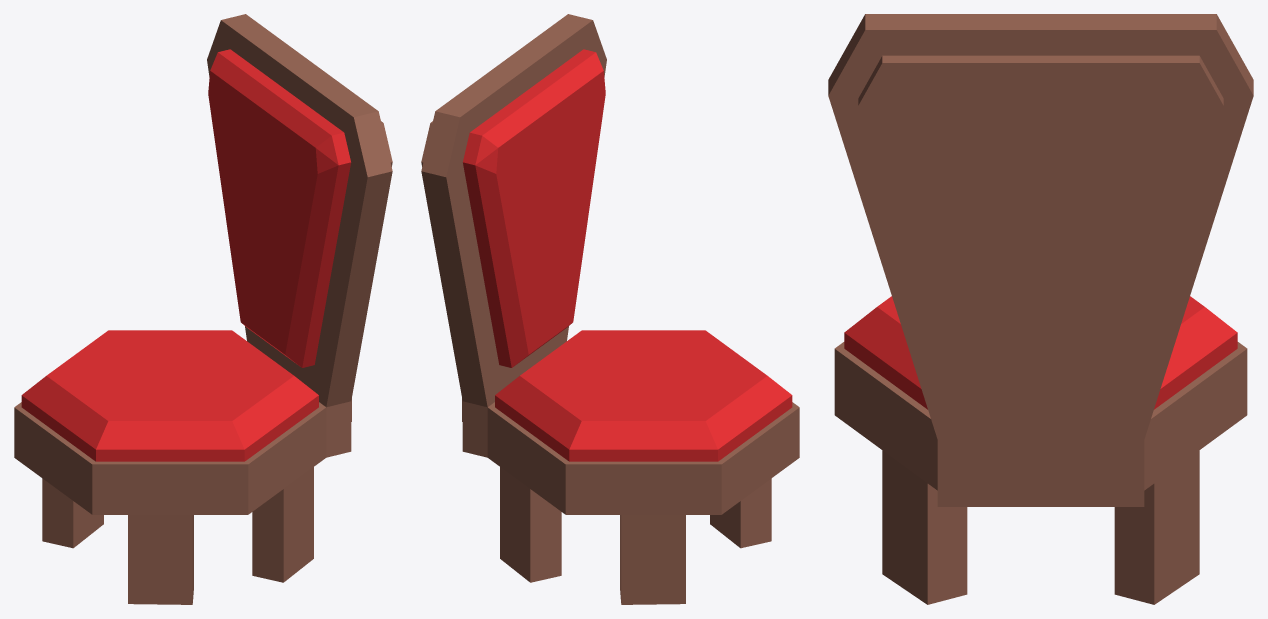
File: SmallChair.fbx
The picture shows the model from 3 angles, left to right: view 1: azimuth 30°, elevation 25°; view 2: azimuth 150°, elevation 25°; view 3: azimuth 270°, elevation 25°; orthographic projection. The views are drawn at different scales.
Parts seen in each view (by area): view 1: Cylinder.001; view 2: Cylinder.001; view 3: Cylinder.001.
Boxes of the visible parts, x1,y1,x2,y2 form: Cylinder.001: [14, 14, 392, 604]; Cylinder.001: [421, 14, 799, 604]; Cylinder.001: [828, 14, 1253, 604].
Bounding box in the file's own units: 1.19 × 1.92 × 1.23.
